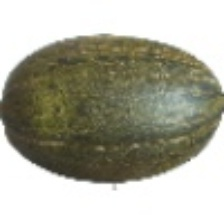honeydew: (26, 32, 181, 183)
